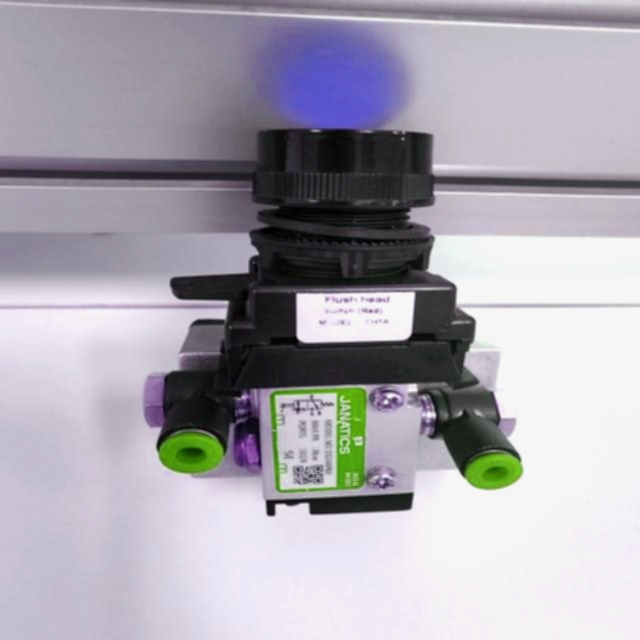push button: (142, 127, 525, 516)
